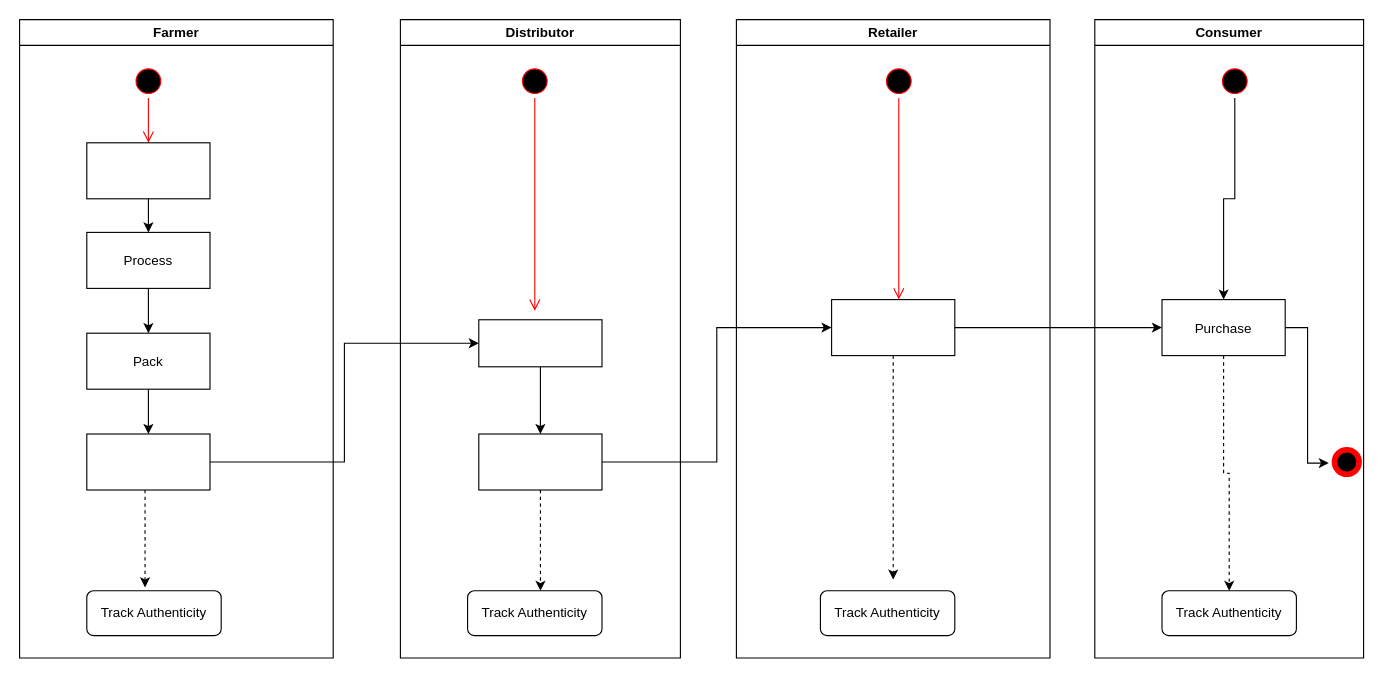
The diagram is 1385 pixels wide and 678 high, and some of its shapes have lost their labels. The centre of each missing label's shape, as x and y in pixels:
Buy: point (540, 343)
Harvest: point (148, 170)
Recieve: point (892, 327)
Sell: point (148, 461)
Ship: point (540, 461)
